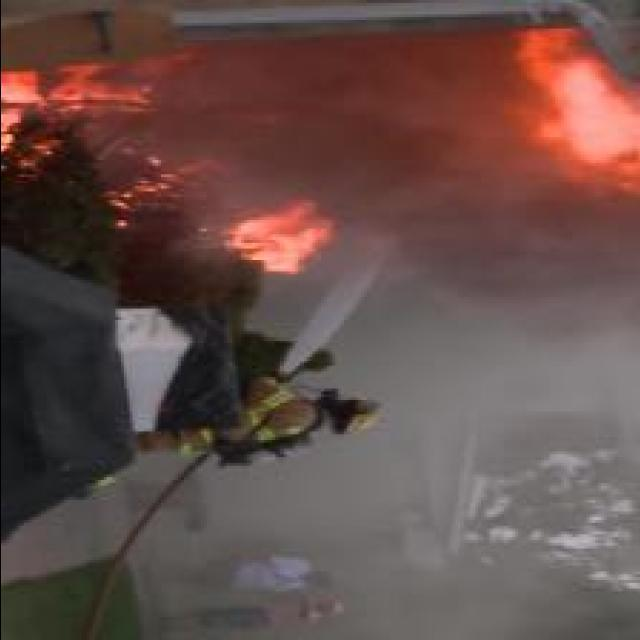Fire: (517, 29, 640, 197), (0, 62, 192, 154), (221, 198, 333, 276)
